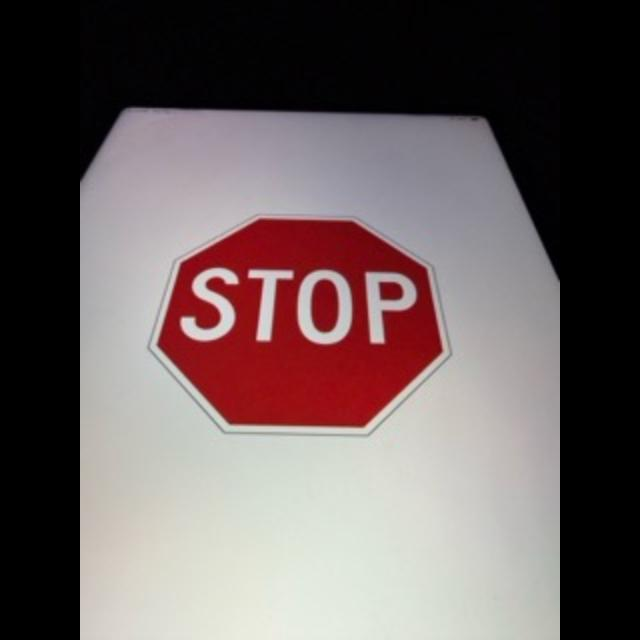STOP: (148, 211, 456, 437)
